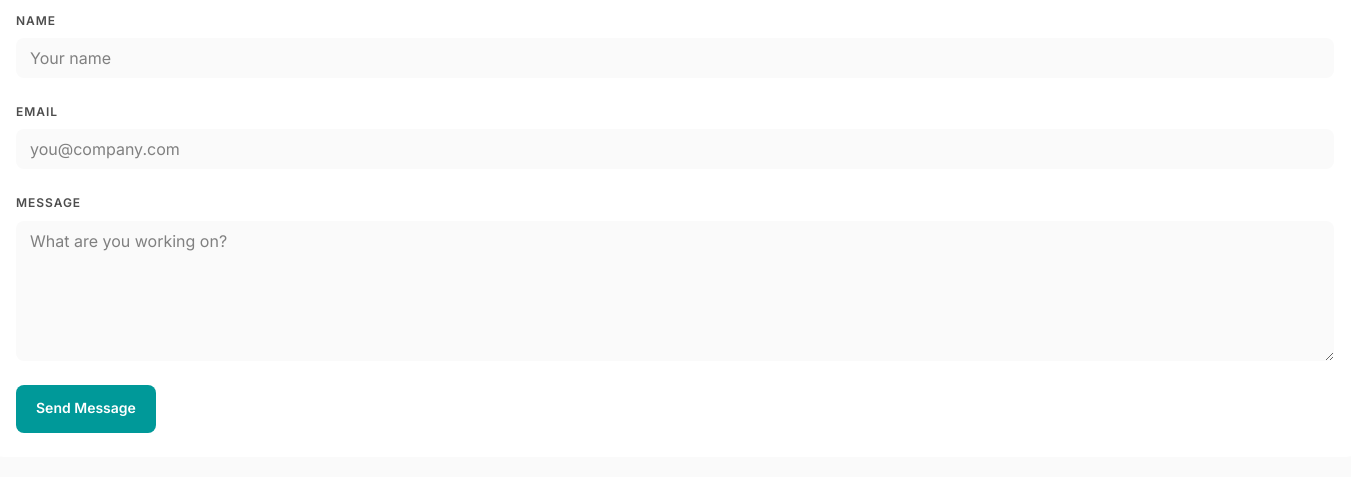
Test: ContactForm - SPEC-021 acceptance criteria › AC4: message shorter than 20 chars shows error without fetching
Type "Jane" into the field labelled "Name".
click(675, 58); type("Jane")  # box [16,38,1334,78]
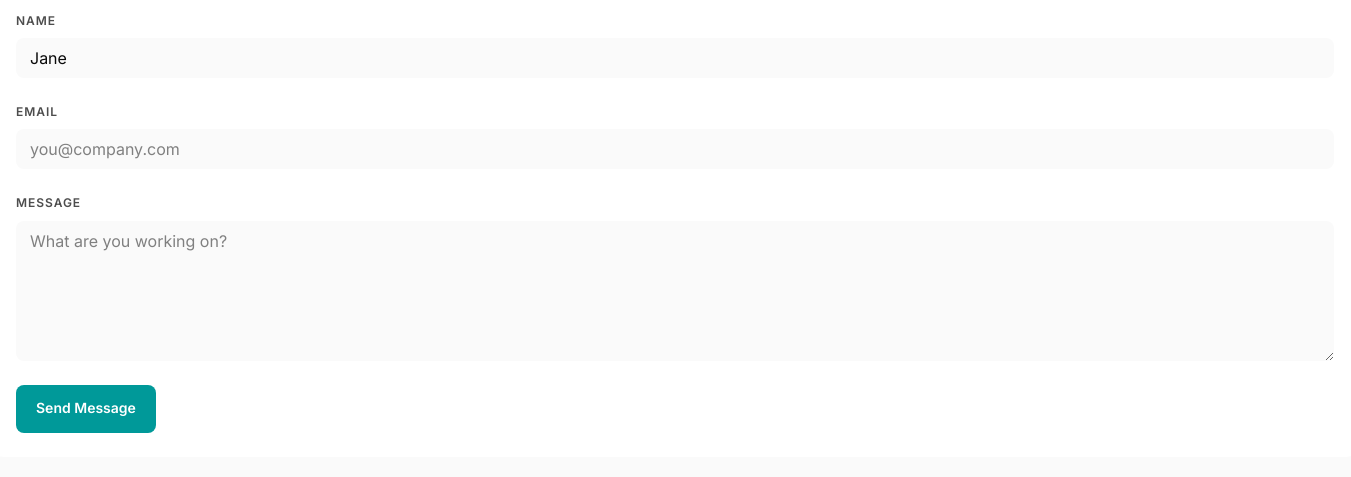
Type "jane@example.com" into the field labelled "Email".
click(675, 149); type("jane@example.com")  # box [16,129,1334,169]
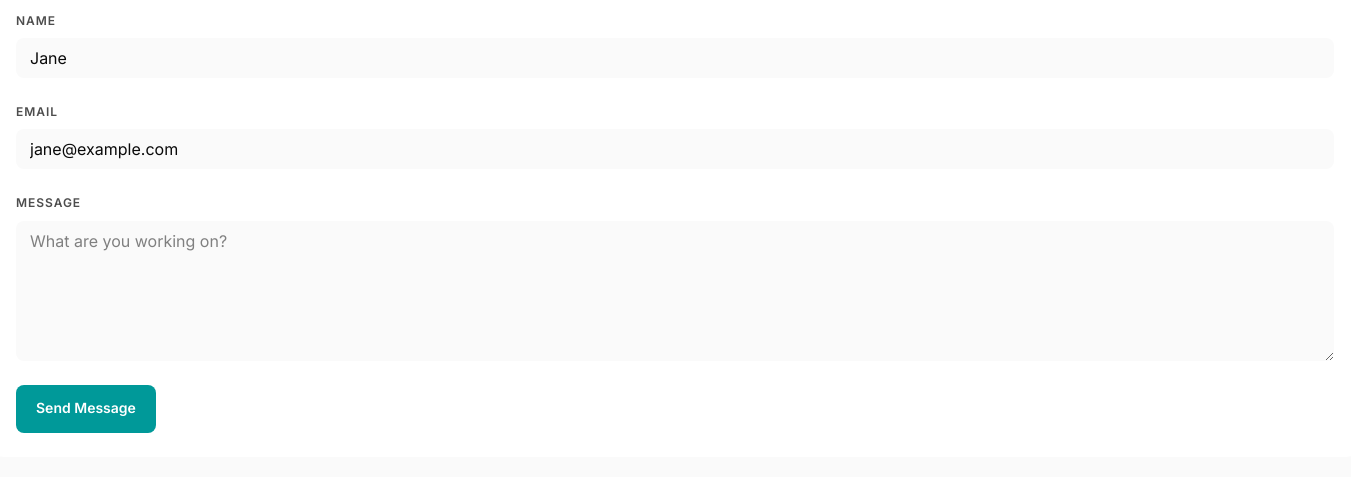
Type "Too short" into the text box labelled "Message".
click(675, 291); type("Too short")  # box [16,221,1334,361]
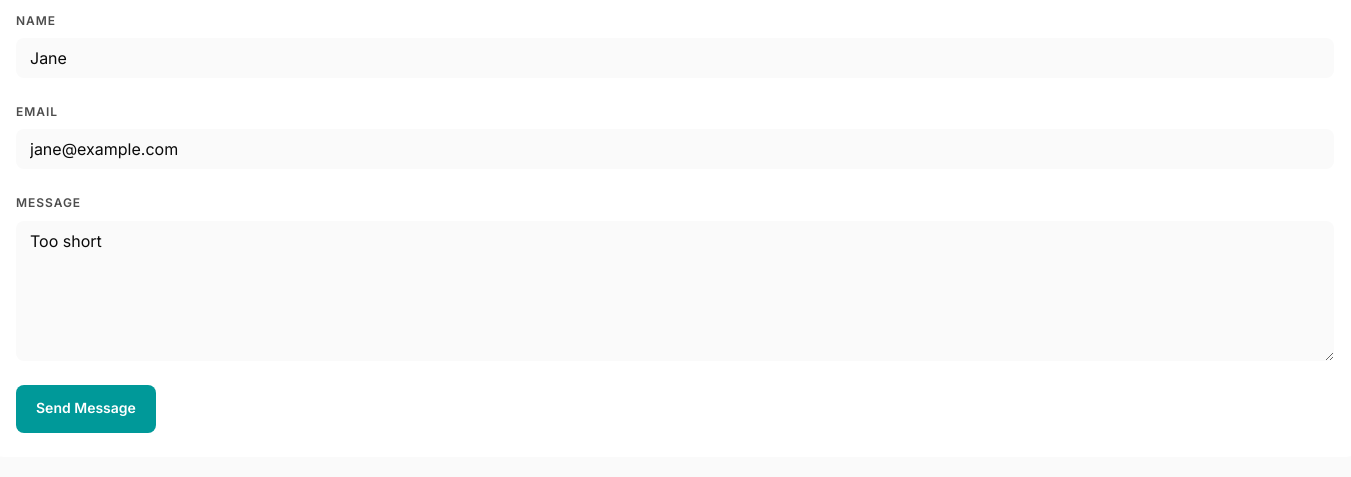
Click the button "Send Message".
click(86, 409)  # box [16,385,156,433]
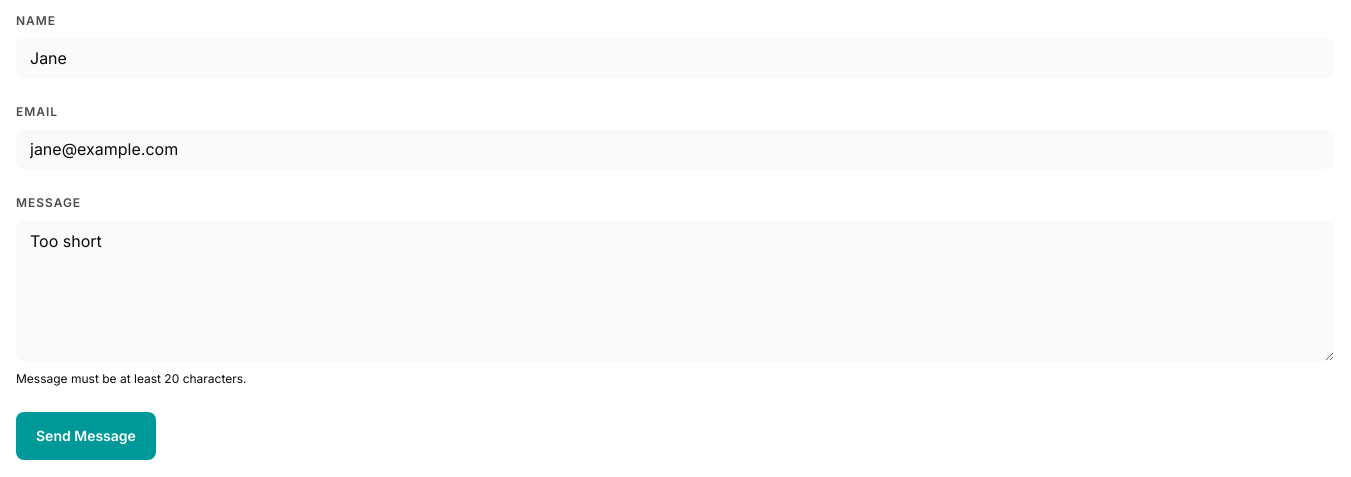
Result: the text "Message must be at least 20 characters." is shown at [16,371,246,386]
